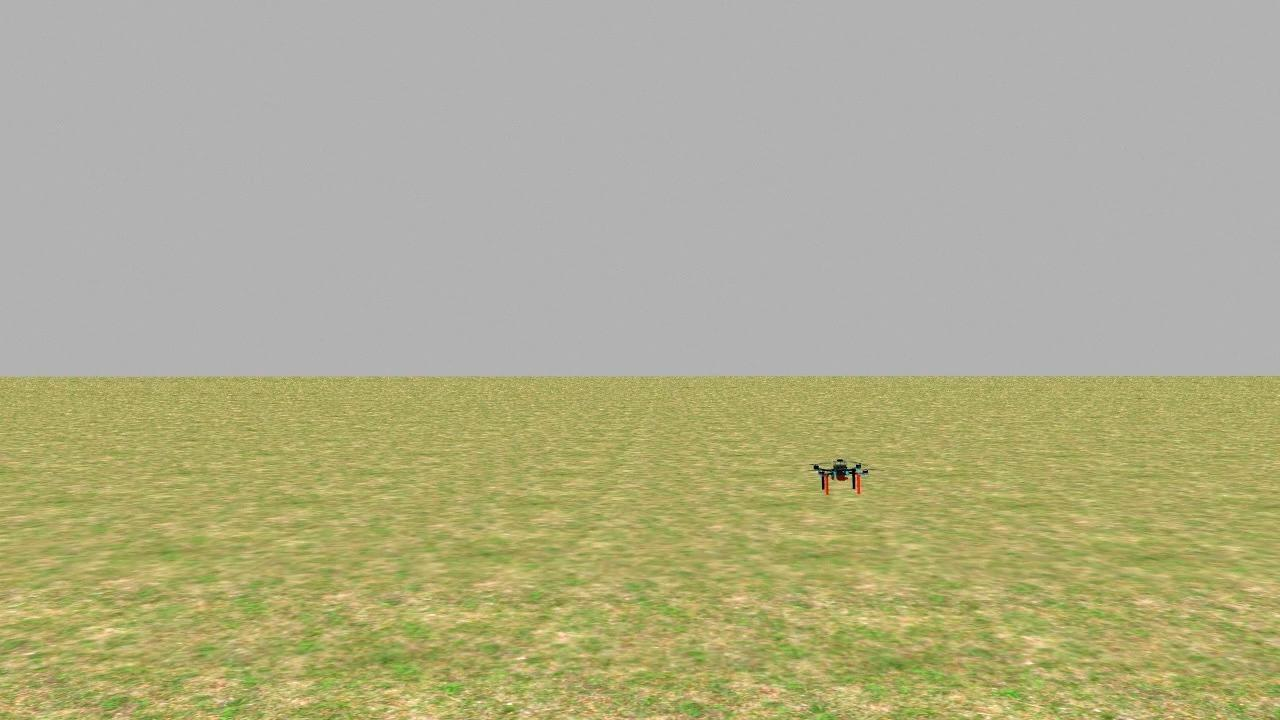UAV: (796, 437, 896, 511)
